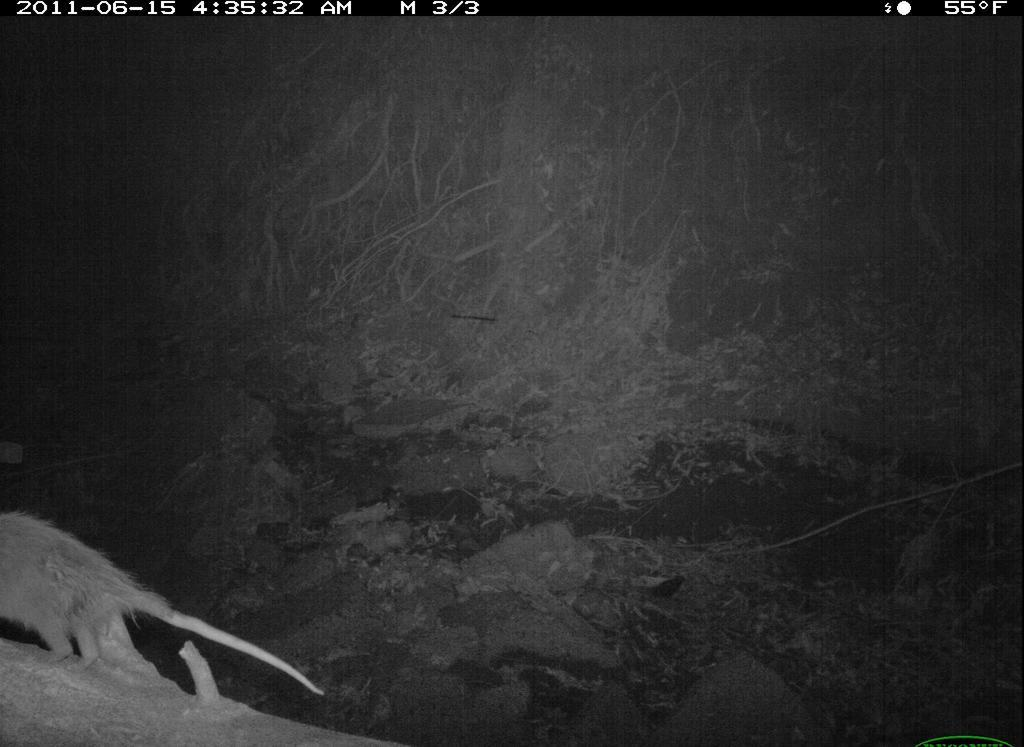opossum: (4, 500, 347, 710)
